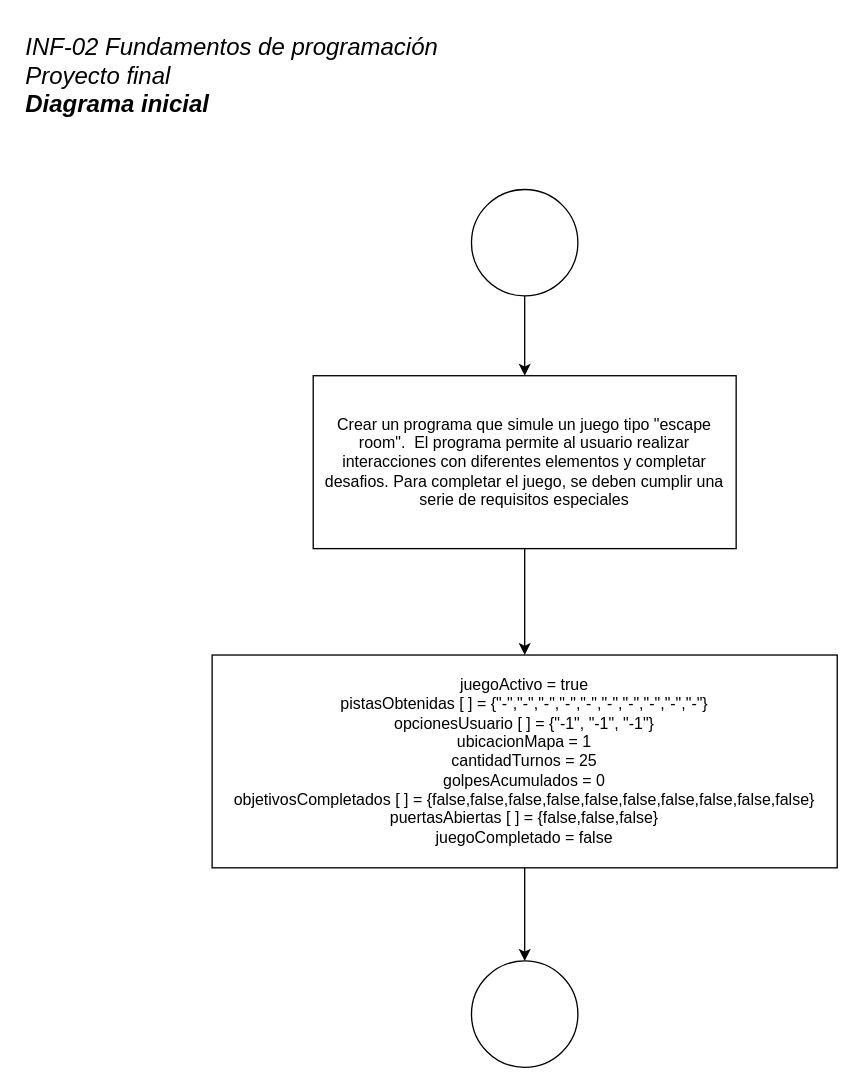
Some shapes in this 861 by 1091 pixel diagram are drawn without their labels. The shapes that lost their labels are listed below. From the top down, each one's box as (x1, y1, x2, y2) in pixels, then its label:
(470, 188, 578, 296): Inicio
(470, 960, 578, 1067): Fin
